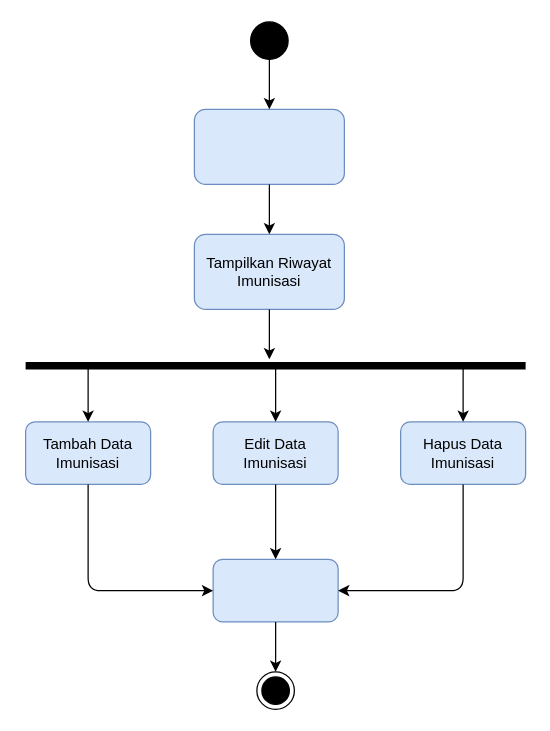
The diagram is 550 pixels wide and 731 high, and some of its shapes have lost their labels. Here are the shapes that lost their labels. From the top down, the centre of each, then its label:
point 268,146: Pilih Menu Imunisasi
point 275,590: Update Database
